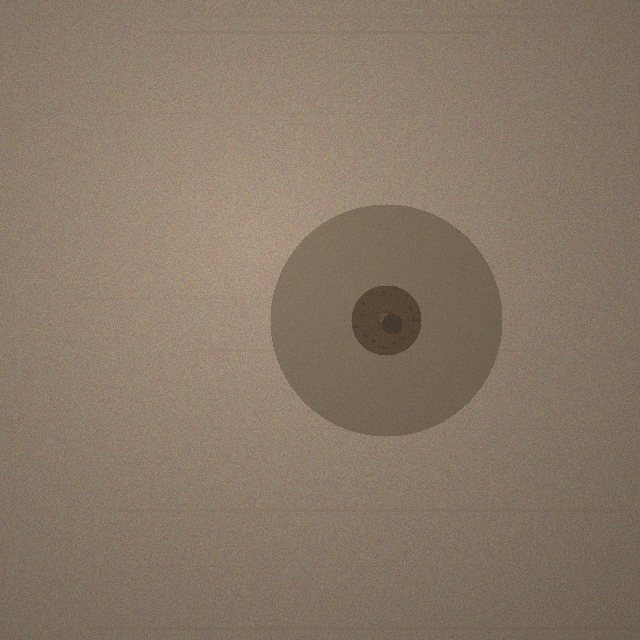cold_weld: (270, 204, 502, 436)
